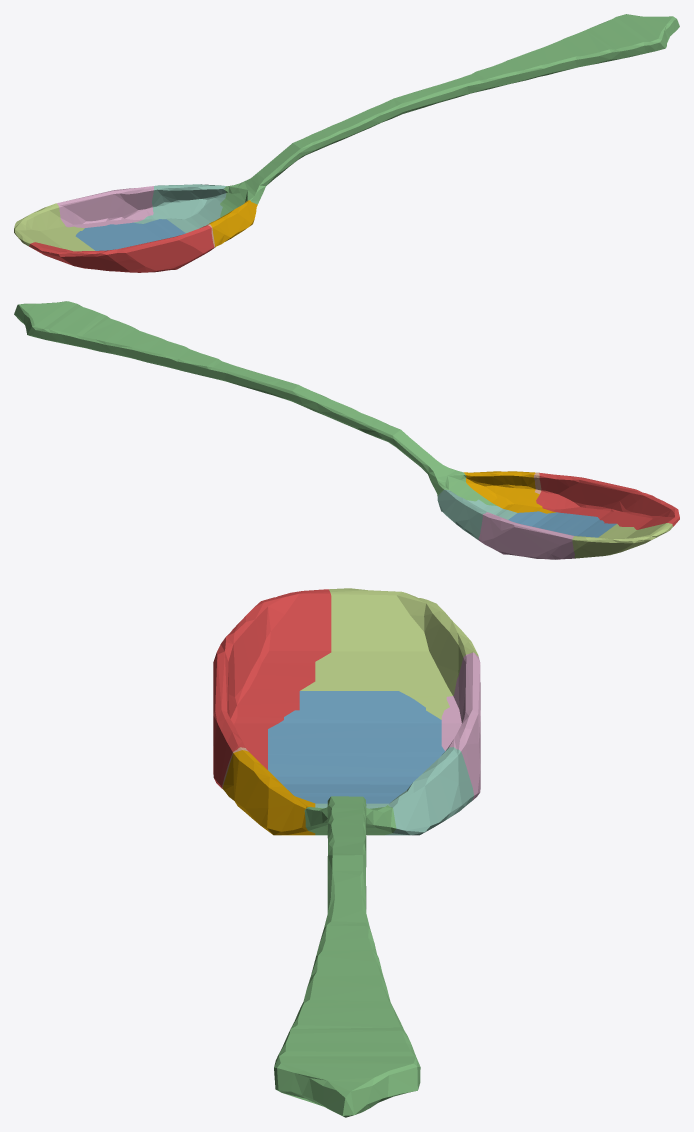
File: mode_13_8pcs.glb
3 views of the same model, one above another, from view 1: azimuth 30°, elevation 25°; view 2: azimuth 150°, elevation 25°; view 3: azimuth 270°, elevation 25° (orthographic). The views are drawn at different scales.
Visible parts, largest first — view 1: piece_3.obj, piece_1.obj, piece_6.obj, piece_4.obj, piece_2.obj, piece_5.obj, piece_0.obj; view 2: piece_3.obj, piece_1.obj, piece_6.obj, piece_0.obj, piece_5.obj, piece_2.obj, piece_4.obj; view 3: piece_3.obj, piece_2.obj, piece_1.obj, piece_5.obj, piece_4.obj, piece_0.obj, piece_6.obj.
Boxes of the visible parts, x1=… form: piece_3.obj: x1=220, y1=14, x2=679, y2=216; piece_1.obj: x1=29, y1=225, x2=214, y2=272; piece_6.obj: x1=57, y1=186, x2=153, y2=227; piece_4.obj: x1=134, y1=184, x2=226, y2=233; piece_2.obj: x1=75, y1=219, x2=185, y2=250; piece_5.obj: x1=14, y1=203, x2=94, y2=251; piece_0.obj: x1=209, y1=200, x2=257, y2=247; piece_3.obj: x1=14, y1=301, x2=497, y2=506; piece_1.obj: x1=536, y1=472, x2=679, y2=529; piece_6.obj: x1=478, y1=512, x2=574, y2=559; piece_0.obj: x1=464, y1=471, x2=555, y2=513; piece_5.obj: x1=572, y1=523, x2=672, y2=558; piece_2.obj: x1=508, y1=511, x2=616, y2=537; piece_4.obj: x1=437, y1=489, x2=516, y2=539; piece_3.obj: x1=274, y1=796, x2=420, y2=1117; piece_2.obj: x1=268, y1=691, x2=444, y2=803; piece_1.obj: x1=213, y1=589, x2=331, y2=788; piece_5.obj: x1=300, y1=588, x2=478, y2=719; piece_4.obj: x1=315, y1=747, x2=474, y2=835; piece_0.obj: x1=222, y1=750, x2=315, y2=835; piece_6.obj: x1=441, y1=652, x2=480, y2=800.
Size of the model in its own units: 1 by 0.1481 by 0.1767.
